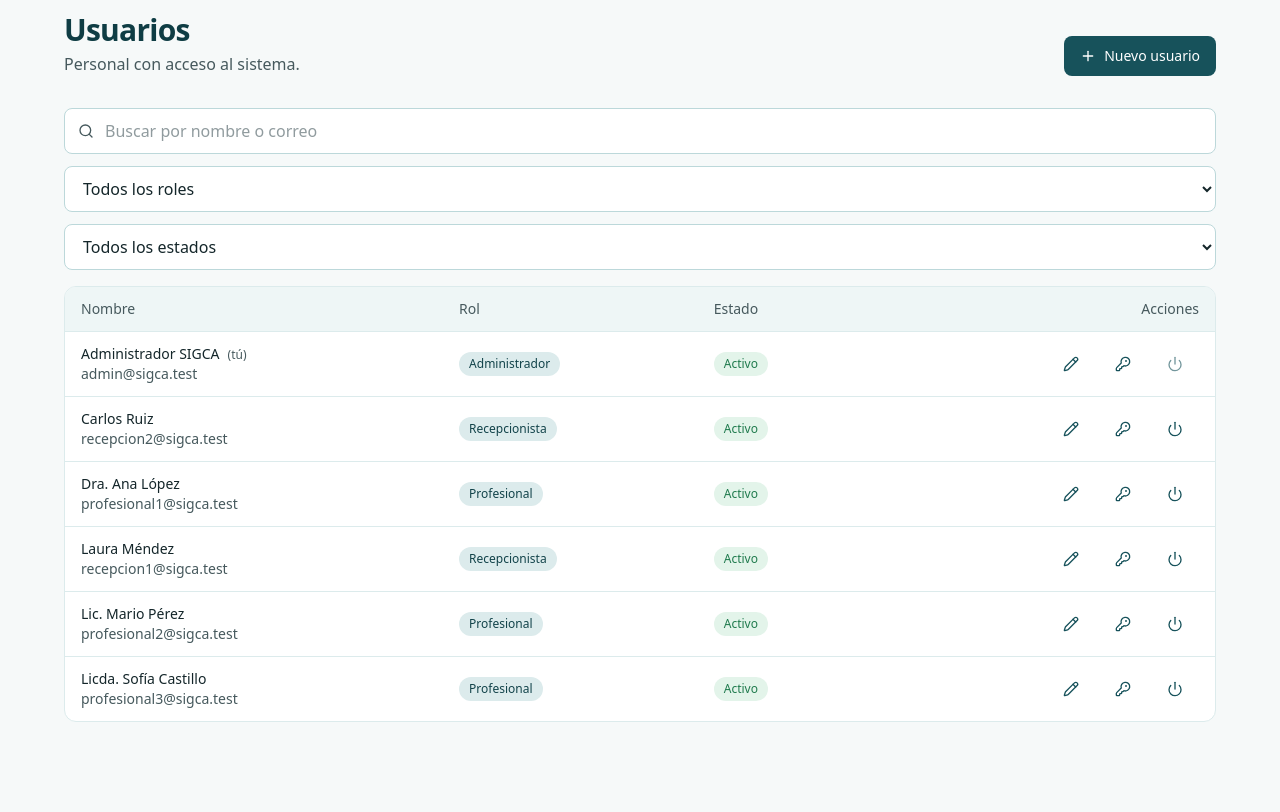
it: Usuarios › sin coincidencias ofrece quitar los filtros
The width and height of the screenshot is (1280, 812).
Check: the text "Laura Méndez" is shown, box [81,539,174,558]
Type "zzzz" into the search field labelled "Buscar por nombre o correo" at (640, 131), box [64,108,1216,154]
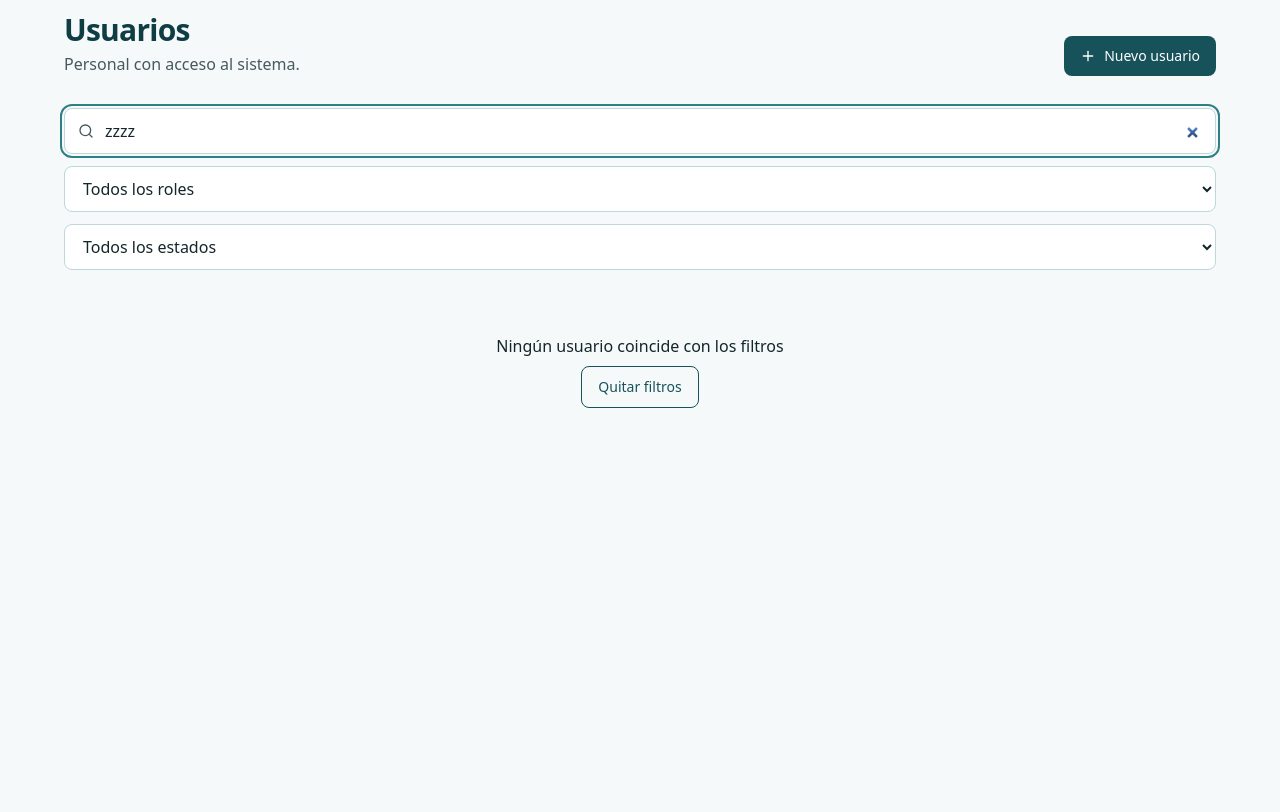
Check: the text "Ningún usuario coincide con los filtros" is shown, box [496,335,784,357]
Click the button "Quitar filtros" at (640, 387), box [581,366,699,408]
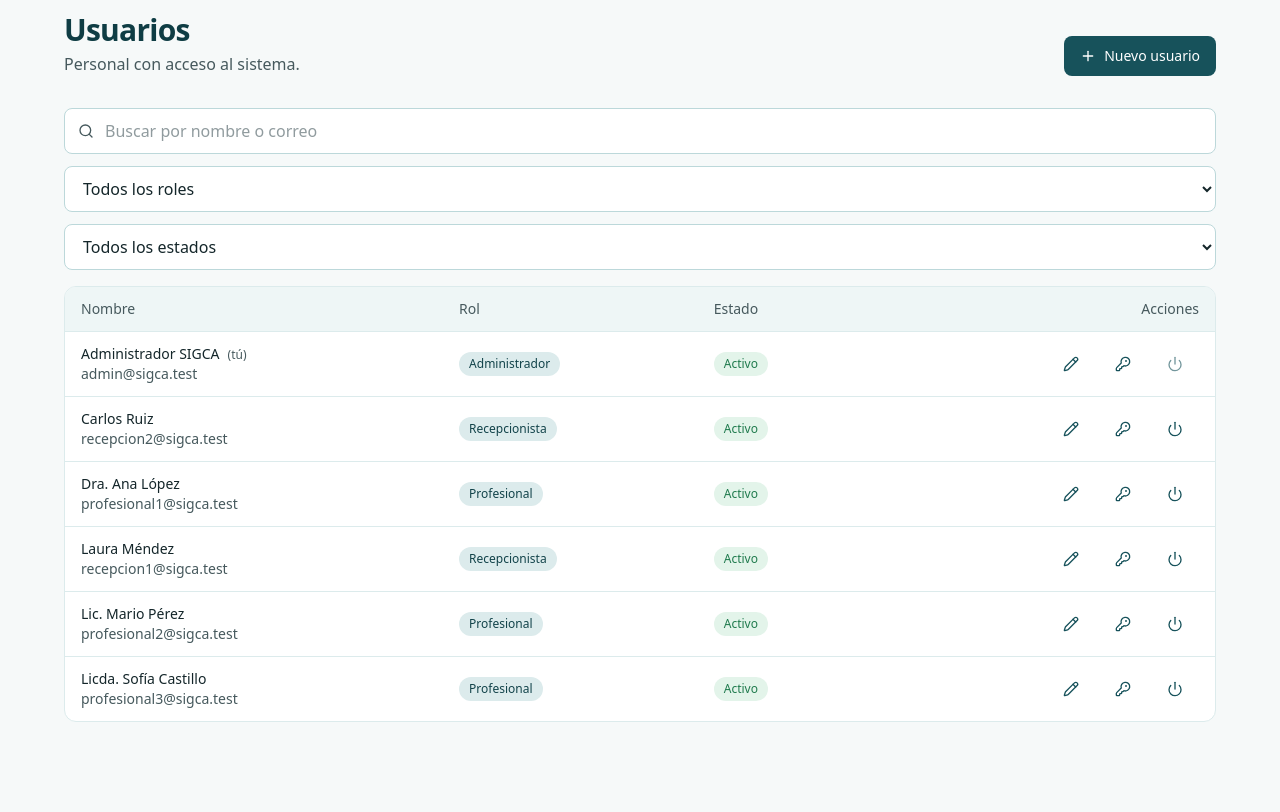
Check: the number of rows is 7
